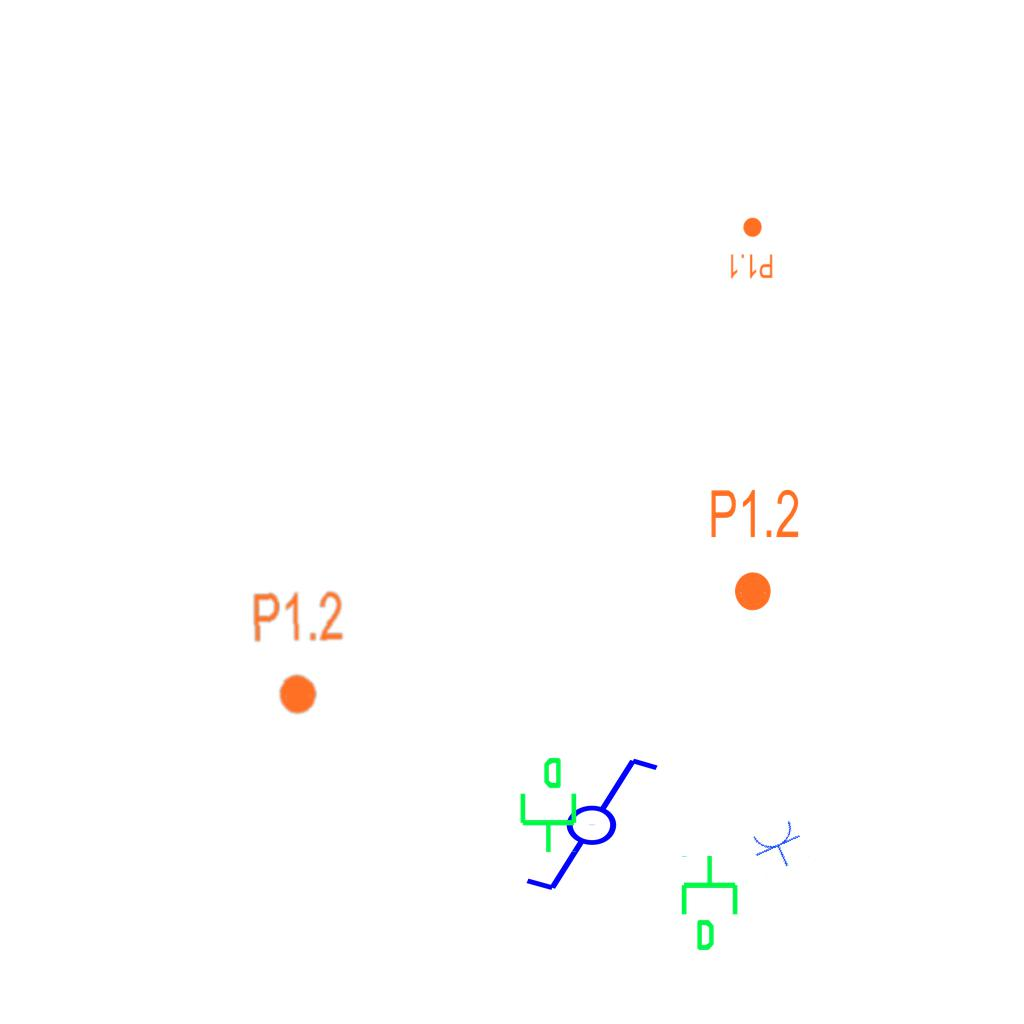Datenanschluss_einfach: (677, 853, 746, 953), (512, 755, 581, 855)
Downlight_LED_Einbauleuchten_Flur: (250, 588, 347, 718), (708, 486, 801, 614), (728, 216, 774, 280)
Schukosteckdose_einfach: (747, 816, 811, 877)
Wechselschalter: (505, 751, 662, 895)
